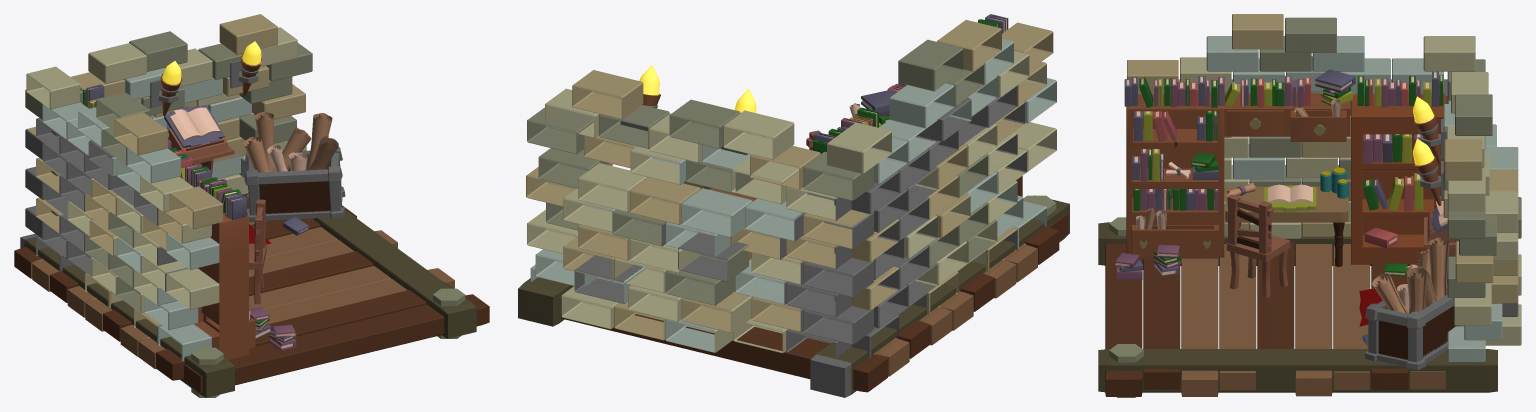
File: bookmark.glb
The picture shows the model from 3 angles, left to right: view 1: azimuth 30°, elevation 25°; view 2: azimuth 150°, elevation 25°; view 3: azimuth 270°, elevation 25°; orthographic projection. The views are drawn at different scales.
Bounding box in the file's own units: 1432 × 1022 × 1628.
Materials: 1 (1 with a texture image).
